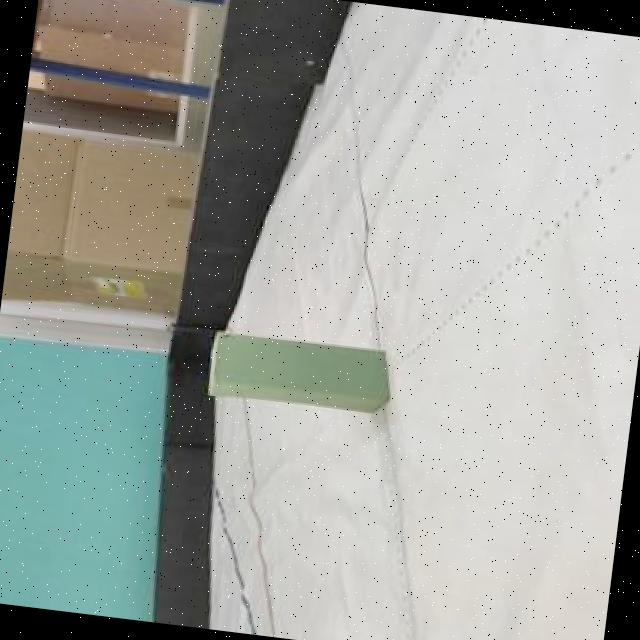greenbox: (204, 327, 393, 417)
